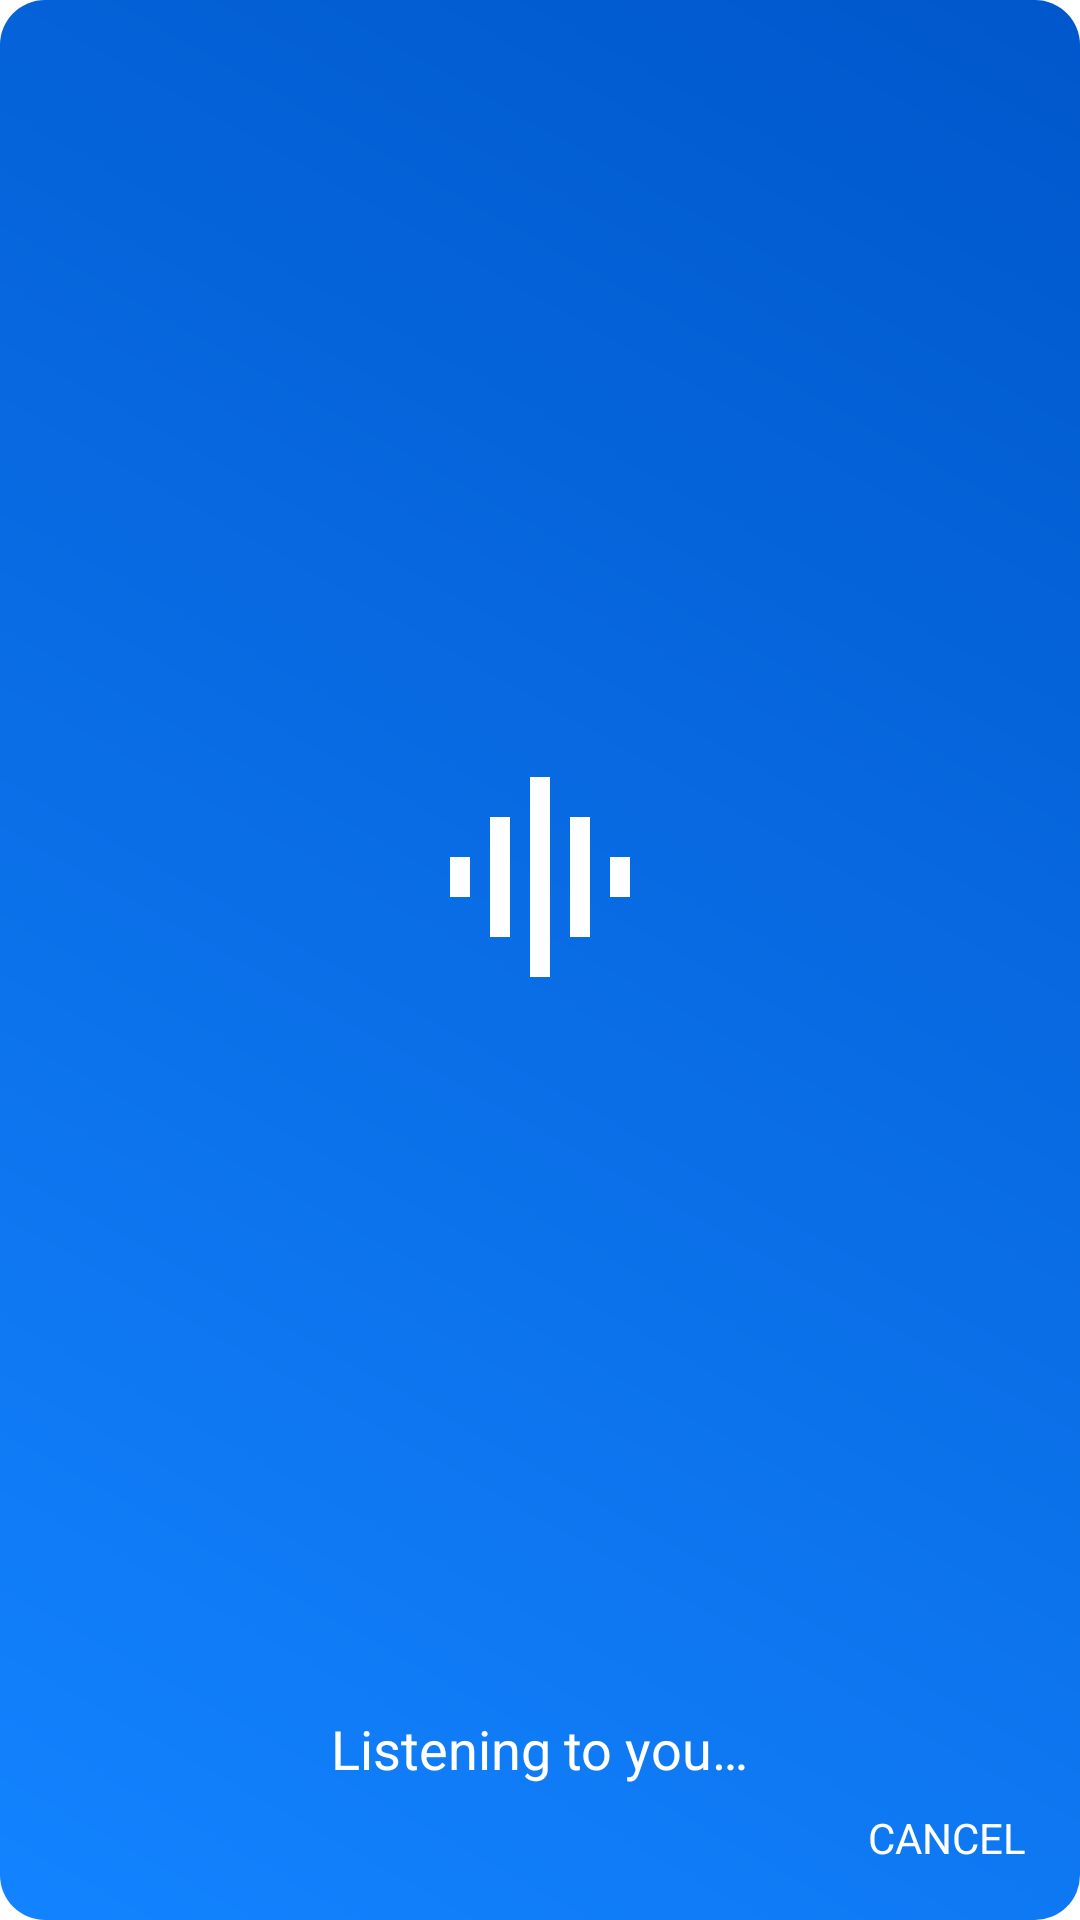

Named icons in this screenshot (1080x1920) and their bounding boxes, (x1, y1, x2, y2):
listening: (450, 777, 630, 977)
